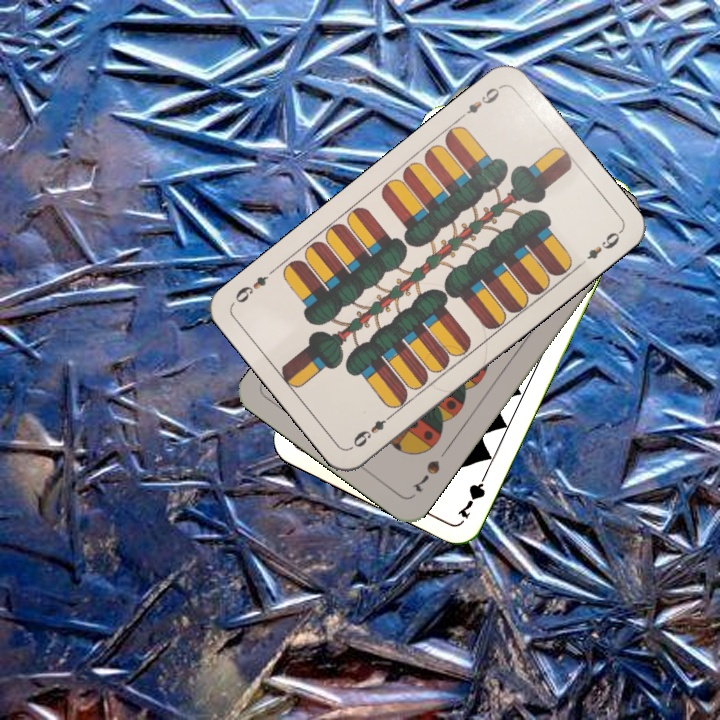E9: (454, 81, 505, 123), (347, 409, 397, 451)
G7: (453, 466, 491, 522)
S7: (409, 456, 443, 495)
